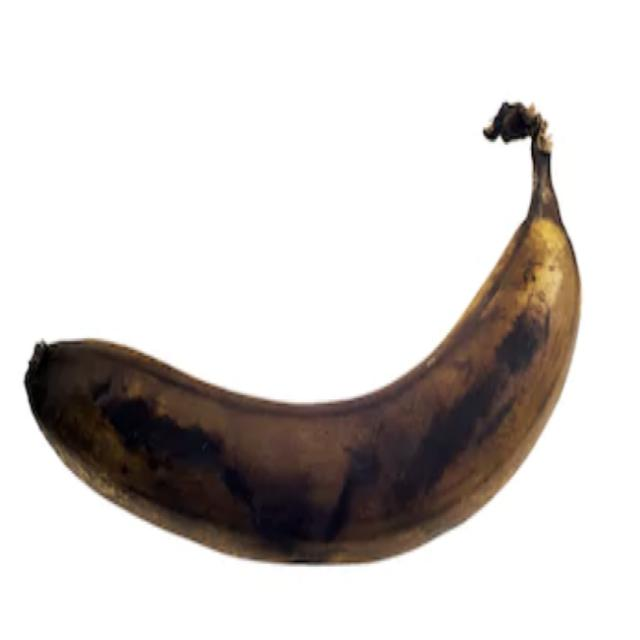rotten-banana: (24, 97, 582, 565)
